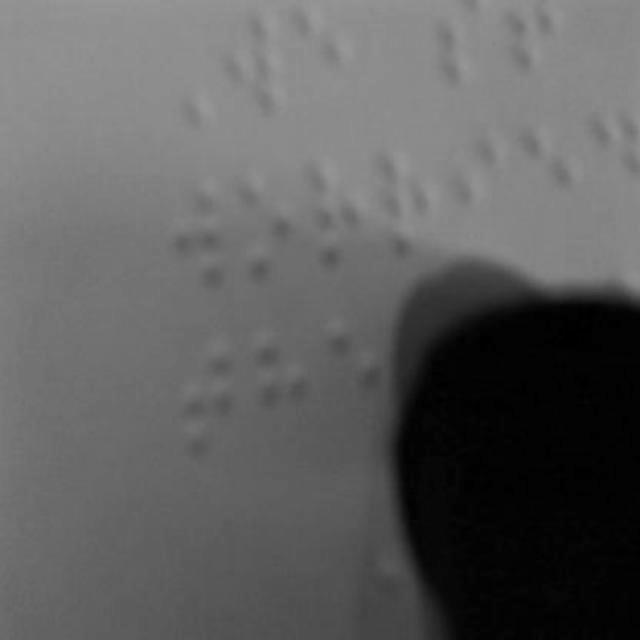braiile: (319, 300, 391, 442), (381, 136, 453, 268), (249, 313, 315, 457), (181, 324, 245, 468), (235, 162, 307, 288), (310, 146, 378, 278), (166, 172, 232, 306), (522, 113, 586, 251), (454, 120, 516, 250)
